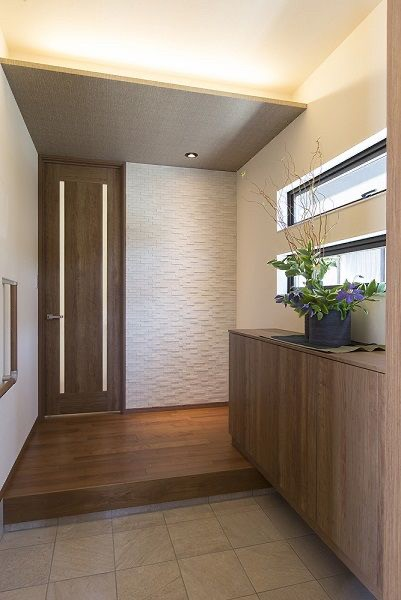floor: (0, 493, 378, 599)
